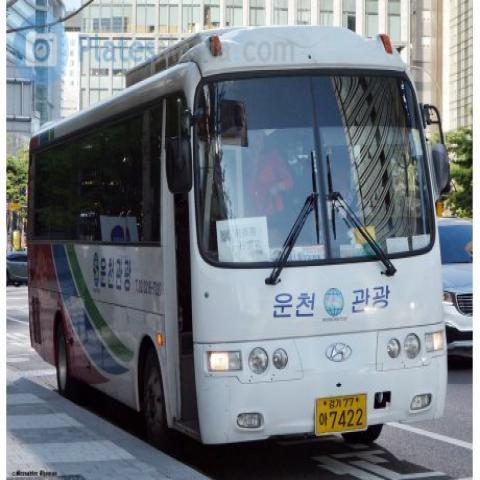LP: (308, 387, 367, 440)
